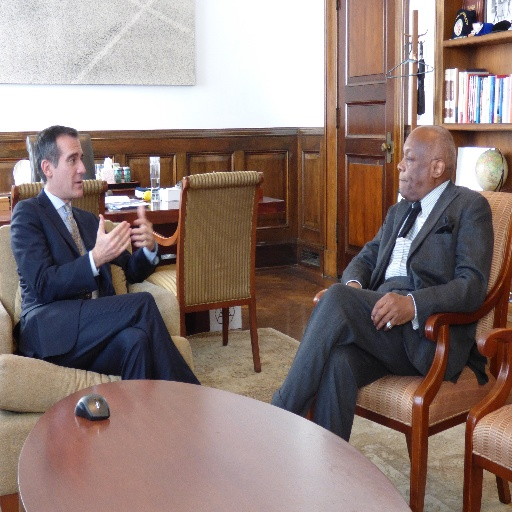hand: (374, 291, 422, 341), (90, 212, 131, 263), (130, 201, 154, 250)
